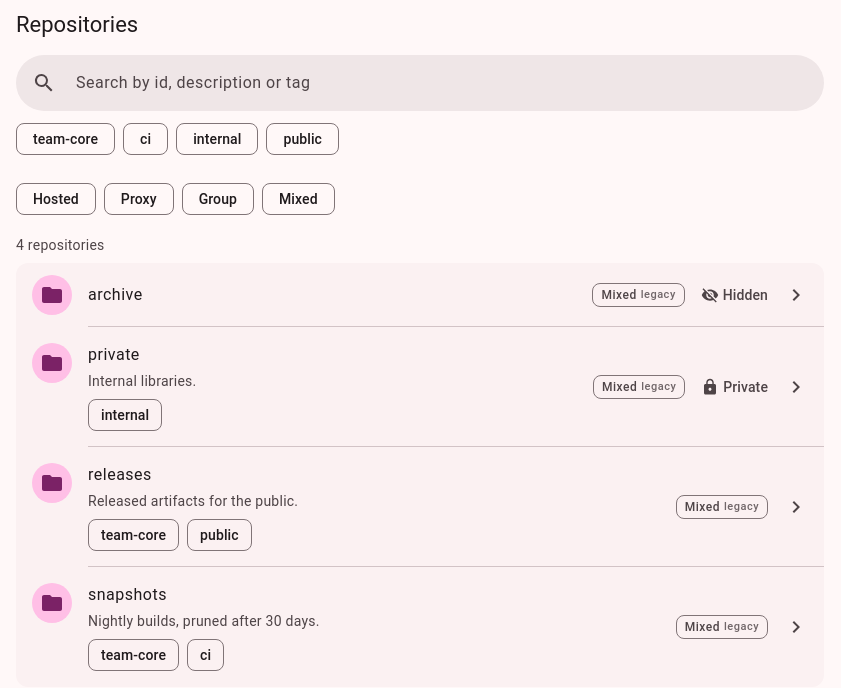
Test case: RepositoryOverview Material 3 structure › offers a clear button in the search bar only while there is text
In the search field with placeholder "Search by id, description or tag": (440, 83) [64,63,816,103], type "rel"
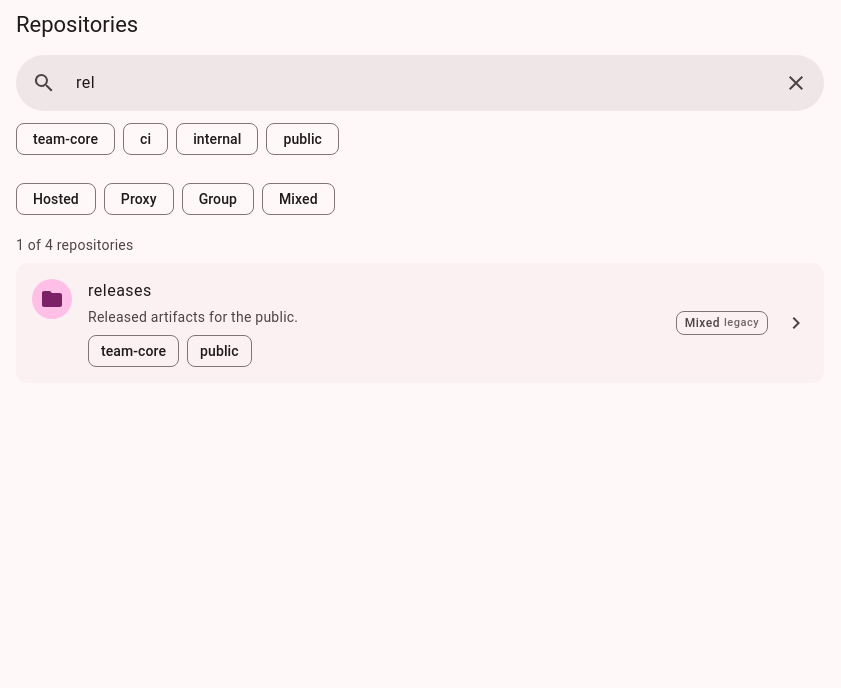
Now the button named "Clear search" is shown, box [776,63,816,103]
